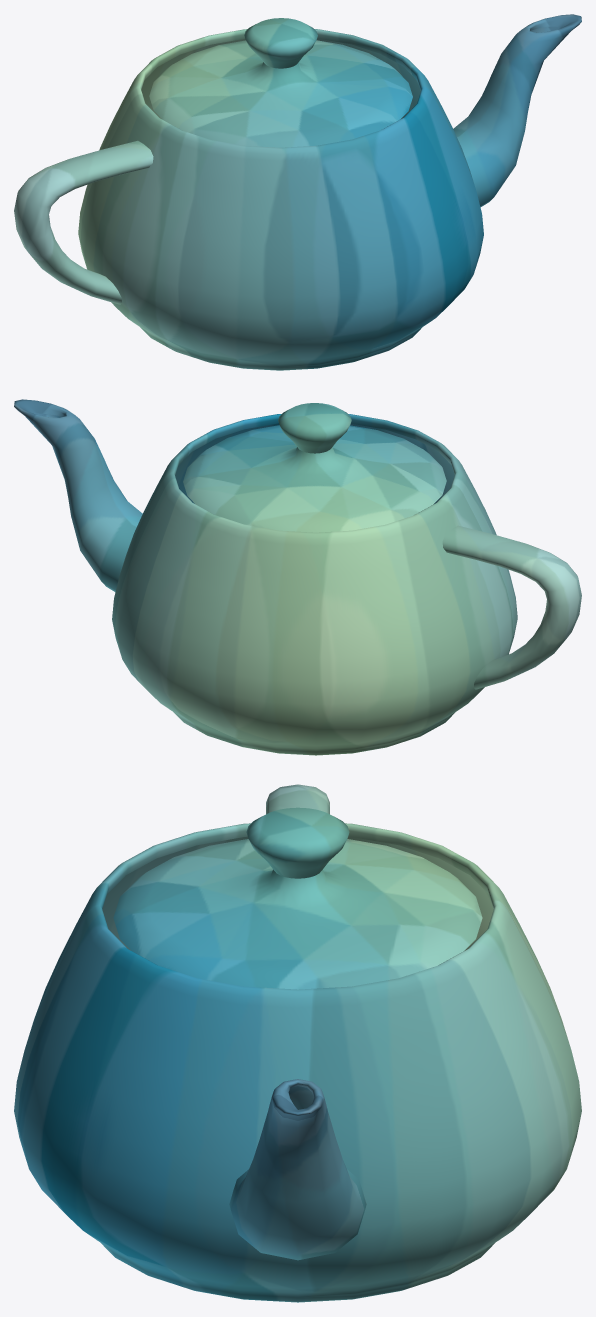
The model's file is teapot.glb.
3 views of the same model, one above another, from view 1: azimuth 30°, elevation 25°; view 2: azimuth 150°, elevation 25°; view 3: azimuth 270°, elevation 25° (orthographic). The views are drawn at different scales.
Parts seen in each view (by area): view 1: teapot; view 2: teapot; view 3: teapot.
Part boxes in pixels (x1=…): teapot: x1=14, y1=14, x2=581, y2=370; teapot: x1=14, y1=399, x2=581, y2=755; teapot: x1=14, y1=784, x2=581, y2=1302.
Bounding box in the file's own units: 0.9644 × 0.4725 × 0.6.
1 material, 1 textured.
